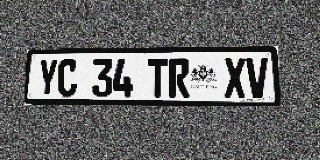3: (92, 59, 113, 97)
4: (113, 59, 133, 97)
C: (57, 59, 78, 97)
R: (169, 58, 190, 97)
T: (147, 58, 168, 97)
V: (246, 57, 269, 98)
X: (224, 58, 246, 98)
Y: (37, 59, 58, 97)
